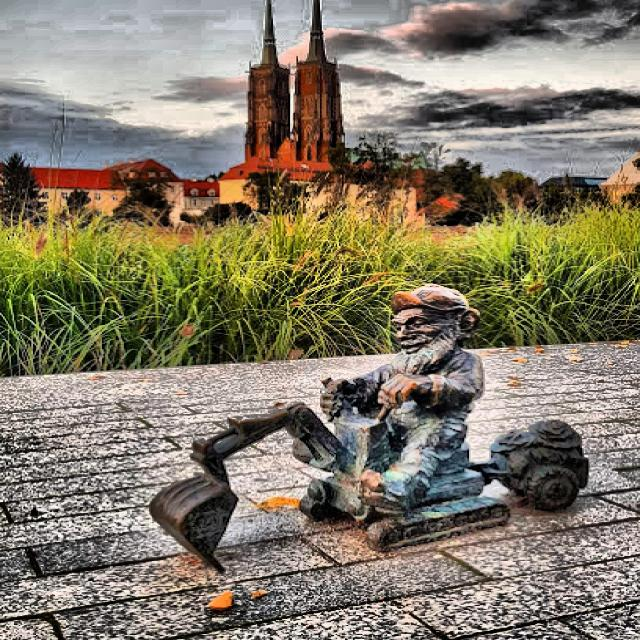Koparkus: (150, 285, 588, 571)
